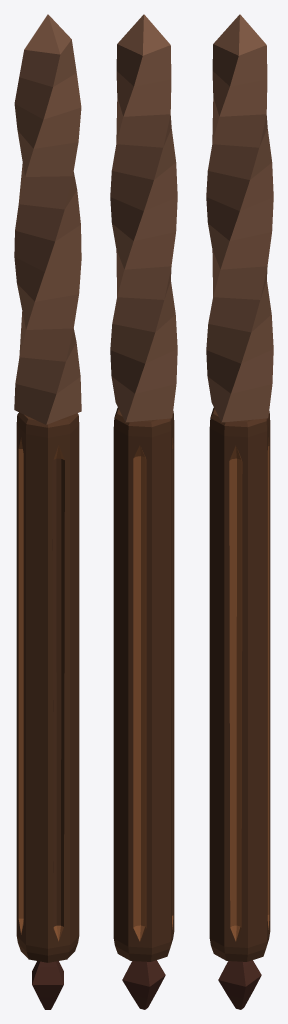
Rendered from Wand 555.glb.
The picture shows the model from 3 angles, left to right: view 1: azimuth 90°, elevation 25°; view 2: azimuth 150°, elevation 25°; view 3: azimuth 330°, elevation 25°; orthographic projection.
Visible parts, largest first — view 1: GeneratedWand; view 2: GeneratedWand; view 3: GeneratedWand.
Boxes of the visible parts, x1,y1,x2,y2 form: GeneratedWand: (14, 14, 81, 1009); GeneratedWand: (110, 14, 177, 1009); GeneratedWand: (206, 14, 273, 1009).
Size of the model in its own units: 0.0311 by 0.5068 by 0.0311.
